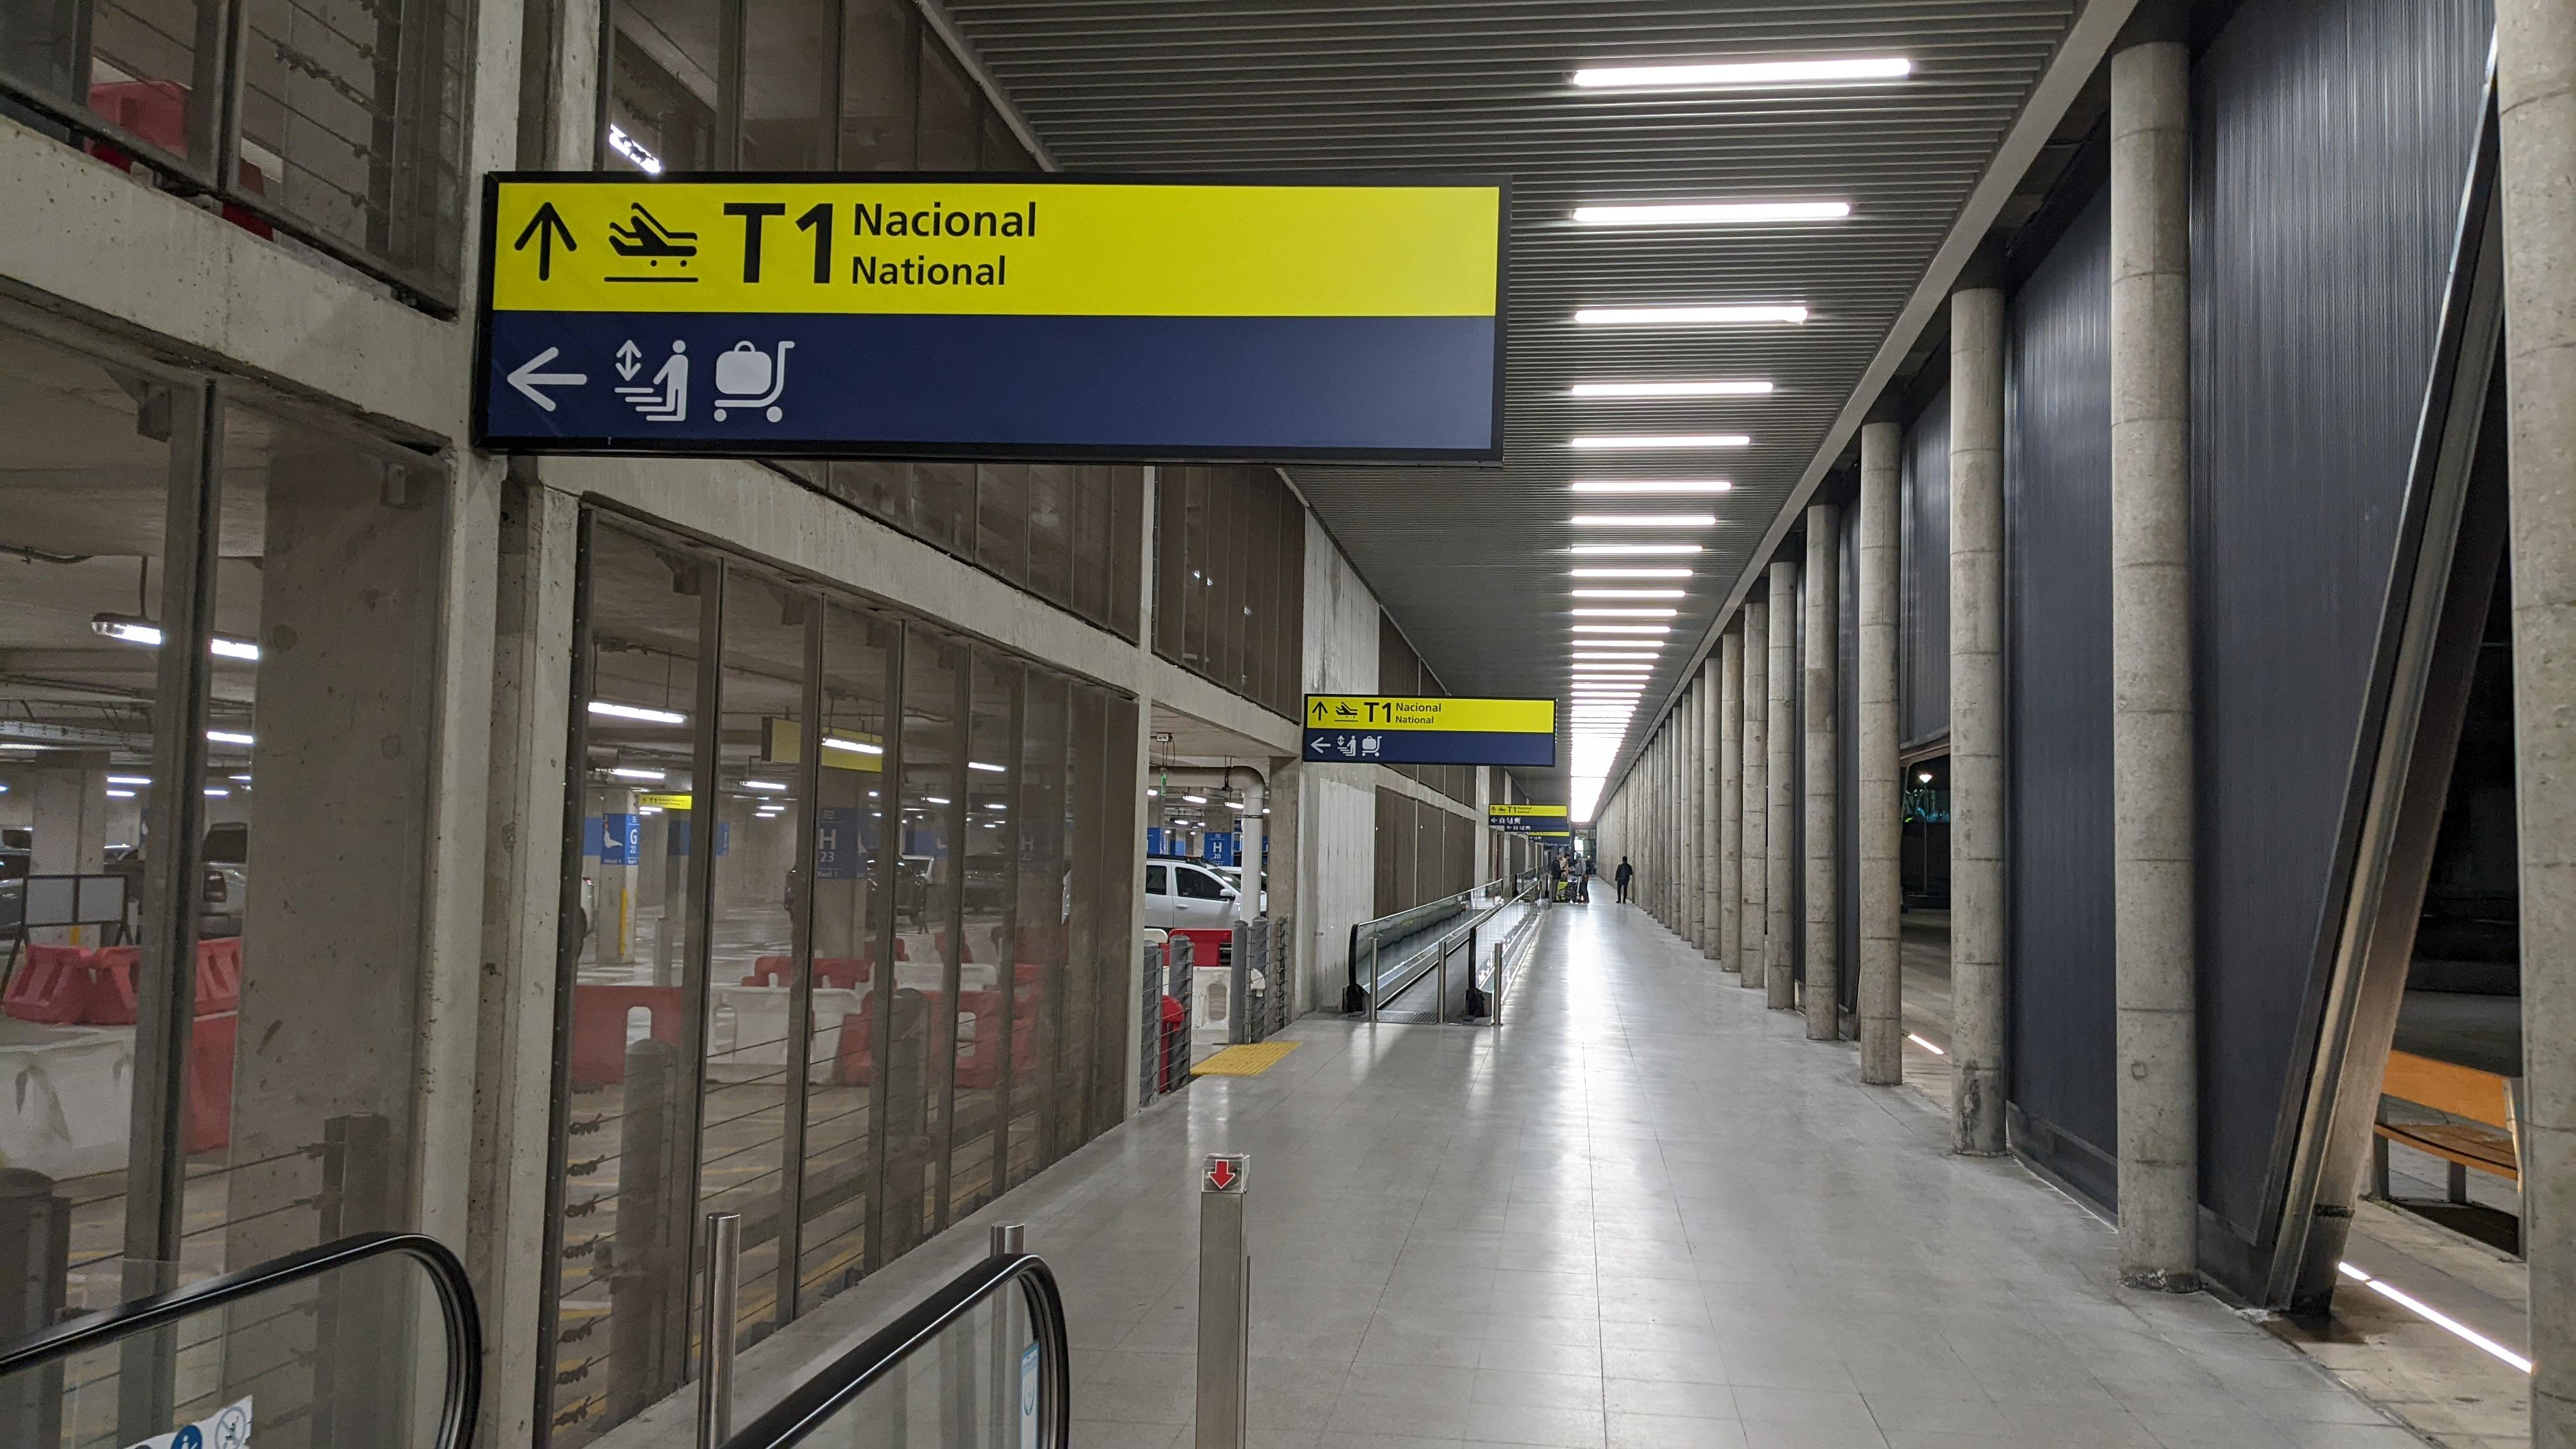airplane symbol: (603, 202, 702, 276), (1334, 701, 1359, 718)
baggage claim: (713, 340, 773, 396), (1361, 734, 1376, 750)
thin left arrow: (504, 341, 594, 418), (1309, 736, 1332, 754)
thin up arrow: (513, 200, 580, 285), (1311, 701, 1329, 722)
